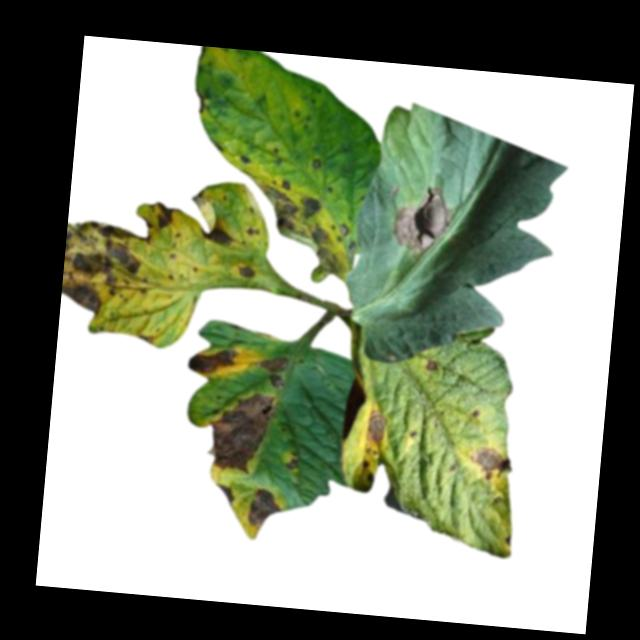Early_blight: (253, 175, 357, 281), (61, 213, 152, 317), (205, 389, 276, 477), (388, 181, 451, 253), (186, 341, 237, 378), (463, 442, 514, 479), (243, 485, 283, 530), (196, 221, 239, 250), (257, 353, 288, 390), (362, 407, 389, 448), (152, 196, 174, 229), (211, 480, 236, 506), (359, 455, 378, 483), (233, 262, 256, 280), (188, 186, 208, 206), (283, 448, 300, 469), (138, 331, 161, 346), (238, 147, 254, 165), (424, 355, 439, 373), (309, 156, 323, 170)
